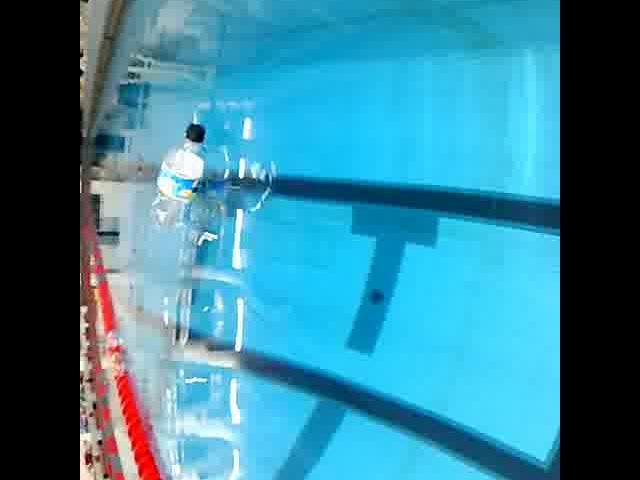Bottle: (146, 118, 212, 238), (105, 328, 127, 372)
